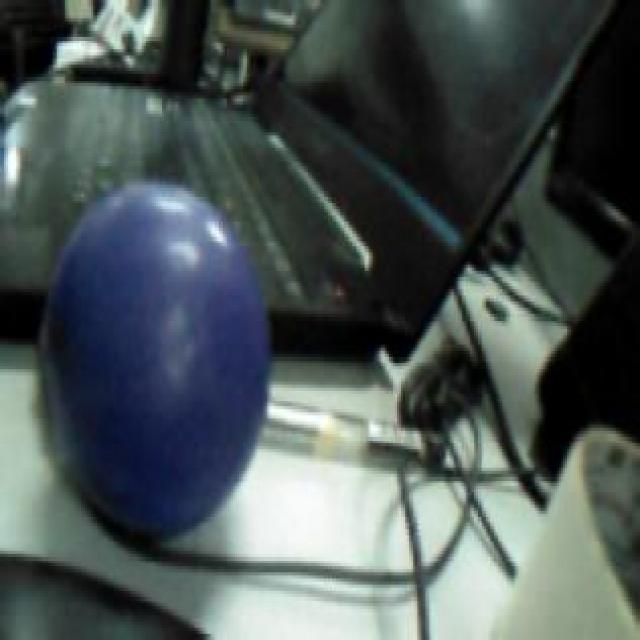BallPurple: (44, 184, 270, 542)
